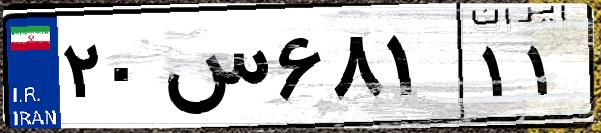0: (110, 28, 158, 98)
1: (385, 28, 445, 110), (475, 38, 525, 113), (525, 38, 570, 115)
2: (57, 26, 110, 100)
6: (270, 28, 330, 110)
8: (330, 28, 385, 110)
س: (158, 20, 270, 120)
